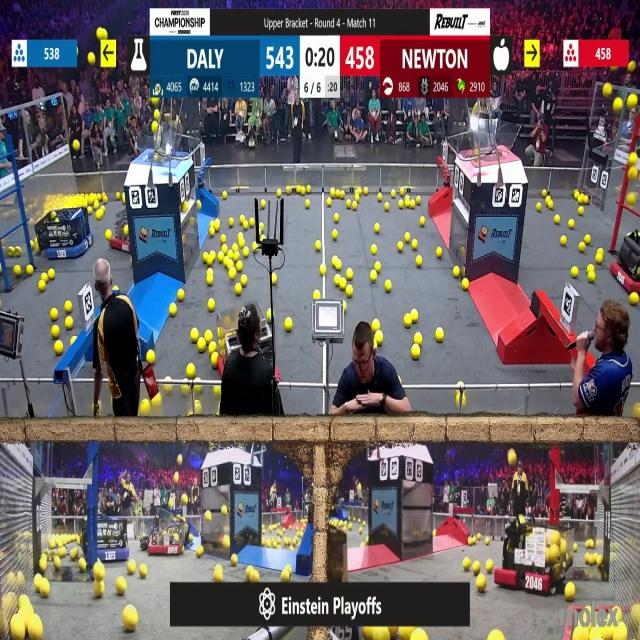ball_airborne: (362, 627, 373, 640), (509, 450, 518, 465), (379, 628, 390, 640), (628, 96, 638, 109), (615, 99, 624, 112), (629, 169, 638, 181), (98, 28, 107, 40), (603, 85, 611, 98), (630, 152, 638, 164), (628, 192, 636, 204), (628, 60, 636, 72), (72, 140, 80, 151), (151, 120, 158, 132), (181, 495, 188, 505), (90, 54, 96, 65), (150, 152, 158, 160), (153, 110, 159, 120), (174, 472, 180, 482), (177, 455, 182, 465), (522, 472, 527, 480), (151, 97, 156, 105), (515, 472, 520, 479)
ball_ground: (125, 609, 138, 633), (565, 584, 575, 602), (246, 568, 258, 582), (95, 563, 105, 579), (116, 579, 125, 596), (478, 577, 487, 594), (95, 584, 105, 599), (140, 400, 150, 415), (40, 583, 49, 599), (55, 341, 64, 356), (214, 566, 223, 581), (186, 363, 195, 377), (211, 353, 219, 368), (489, 631, 502, 640), (129, 560, 137, 574), (284, 318, 292, 332), (413, 346, 421, 360), (222, 536, 230, 550), (630, 292, 639, 304), (49, 309, 58, 321), (193, 403, 200, 418), (189, 328, 197, 341), (376, 333, 384, 346), (146, 351, 154, 364), (198, 340, 206, 353), (486, 560, 494, 573), (39, 559, 47, 572), (178, 288, 185, 302), (435, 328, 442, 342), (78, 558, 85, 572), (170, 305, 178, 317), (462, 558, 470, 570), (282, 569, 290, 581), (152, 395, 160, 407), (66, 317, 73, 330), (140, 564, 147, 577), (51, 325, 58, 338), (414, 335, 422, 346), (38, 281, 46, 292), (596, 253, 604, 264), (370, 320, 378, 331), (55, 558, 63, 569), (209, 342, 217, 353), (181, 385, 189, 396), (208, 300, 215, 312), (385, 280, 392, 292), (571, 267, 578, 279), (472, 561, 479, 573), (403, 315, 410, 327), (412, 311, 419, 323), (635, 404, 640, 420), (572, 630, 580, 640), (27, 266, 34, 277), (47, 270, 54, 281), (589, 273, 596, 284), (13, 267, 20, 278), (227, 270, 234, 281), (206, 329, 213, 340), (165, 383, 172, 394), (213, 386, 220, 397), (347, 285, 353, 297), (272, 274, 278, 286), (588, 265, 596, 274), (207, 274, 213, 286), (198, 548, 204, 560), (214, 219, 220, 231), (236, 284, 243, 294), (314, 290, 321, 300), (369, 272, 376, 282), (578, 243, 585, 253), (193, 384, 200, 394), (545, 200, 552, 210), (70, 550, 77, 560), (66, 303, 72, 314), (316, 241, 322, 252), (462, 279, 468, 290), (232, 555, 238, 566), (320, 266, 326, 277), (341, 278, 347, 289), (454, 268, 460, 279), (237, 262, 243, 273), (336, 261, 342, 272), (331, 256, 337, 267), (97, 209, 103, 220), (223, 257, 229, 268), (412, 240, 418, 250), (420, 216, 426, 226), (435, 248, 441, 258), (561, 236, 567, 246), (268, 310, 273, 322), (397, 242, 403, 252), (106, 231, 112, 241), (241, 276, 247, 286), (586, 236, 592, 246), (249, 217, 255, 227), (252, 242, 258, 252), (336, 276, 342, 286), (216, 327, 222, 337), (221, 505, 227, 515), (586, 555, 592, 565), (596, 556, 602, 566), (234, 251, 240, 261), (205, 512, 211, 522), (210, 251, 216, 261), (348, 270, 353, 281), (370, 245, 376, 254), (376, 264, 382, 273), (555, 215, 561, 224), (403, 234, 409, 243), (375, 223, 381, 232), (568, 219, 574, 228), (227, 217, 233, 226), (406, 200, 412, 209), (337, 189, 343, 198), (417, 256, 422, 266), (244, 247, 249, 257), (220, 234, 225, 244), (204, 252, 209, 262), (352, 202, 357, 212), (331, 232, 337, 240), (384, 204, 390, 212), (467, 536, 473, 544), (239, 240, 245, 248), (88, 207, 94, 215), (335, 214, 341, 222), (276, 189, 282, 197), (258, 221, 264, 229), (540, 188, 546, 196), (572, 190, 578, 198), (587, 539, 593, 547), (584, 197, 590, 205), (218, 252, 223, 261), (398, 201, 403, 210), (210, 229, 215, 238), (195, 201, 200, 210), (329, 188, 334, 197), (577, 208, 583, 215), (234, 244, 240, 251), (485, 537, 491, 544), (259, 236, 265, 243), (354, 193, 360, 200), (70, 338, 76, 345), (306, 201, 311, 209), (536, 204, 541, 212), (326, 200, 331, 208), (347, 201, 352, 209), (243, 221, 248, 229), (363, 187, 368, 195), (307, 185, 312, 193), (364, 536, 369, 544), (284, 537, 289, 545), (344, 304, 349, 312), (286, 186, 291, 194), (263, 201, 267, 210), (187, 412, 193, 418), (240, 215, 245, 222), (222, 191, 227, 198), (391, 190, 396, 197), (227, 251, 232, 258), (103, 195, 108, 202), (58, 575, 63, 582), (116, 191, 120, 199), (412, 201, 416, 209), (378, 192, 382, 200), (188, 534, 192, 542), (120, 192, 124, 200), (417, 198, 421, 205), (290, 544, 294, 550), (360, 542, 364, 547), (432, 530, 435, 536), (363, 521, 366, 527)
goal: (466, 120, 522, 160), (128, 128, 187, 160)
robot_blue: (37, 207, 94, 260), (88, 515, 130, 562)
robot_red: (499, 516, 553, 596), (148, 513, 190, 554), (612, 237, 640, 296), (109, 208, 130, 254)
